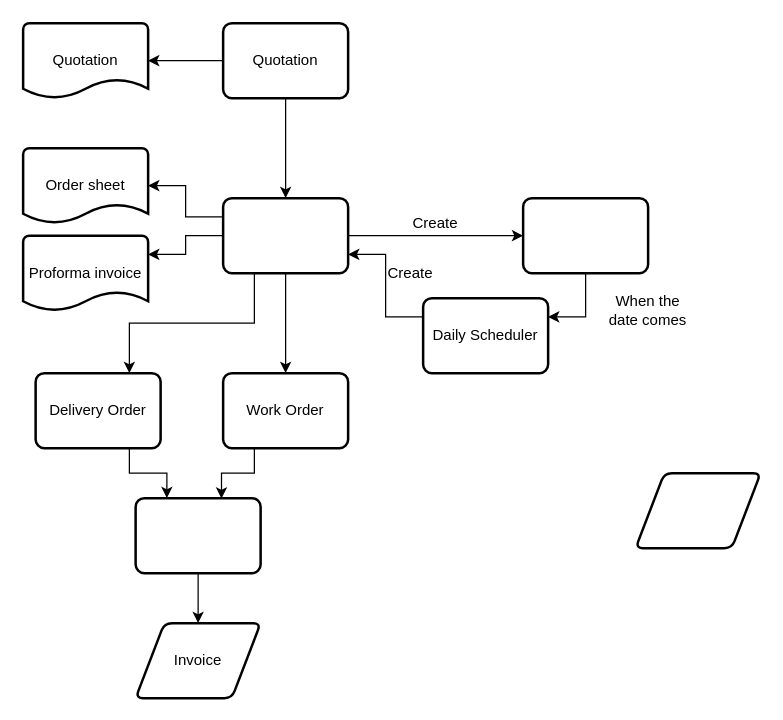
Some shapes in this 783 by 720 pixel diagram are drawn without their labels. The shapes that lost their labels are listed below. From the top down, each one's box as (x1, y1, x2, y2) in pixels, then its label:
(221, 196, 349, 274): Sales Order
(521, 196, 649, 274): Recurring Order
(634, 471, 761, 549): Customer credit
(134, 496, 261, 574): Billing
